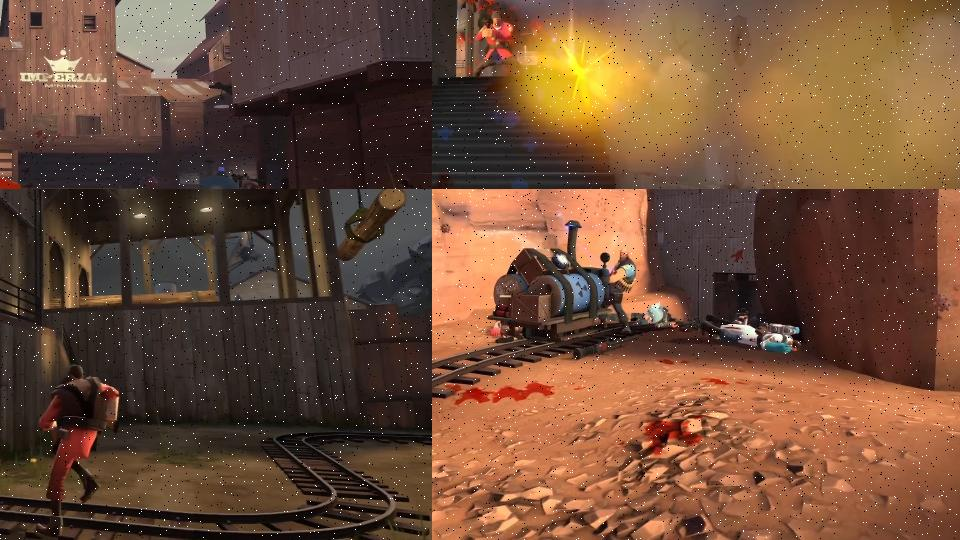Enemy: (36, 365, 120, 536), (472, 10, 526, 79), (701, 319, 802, 354), (598, 248, 637, 333), (640, 303, 681, 328), (237, 172, 258, 189)
